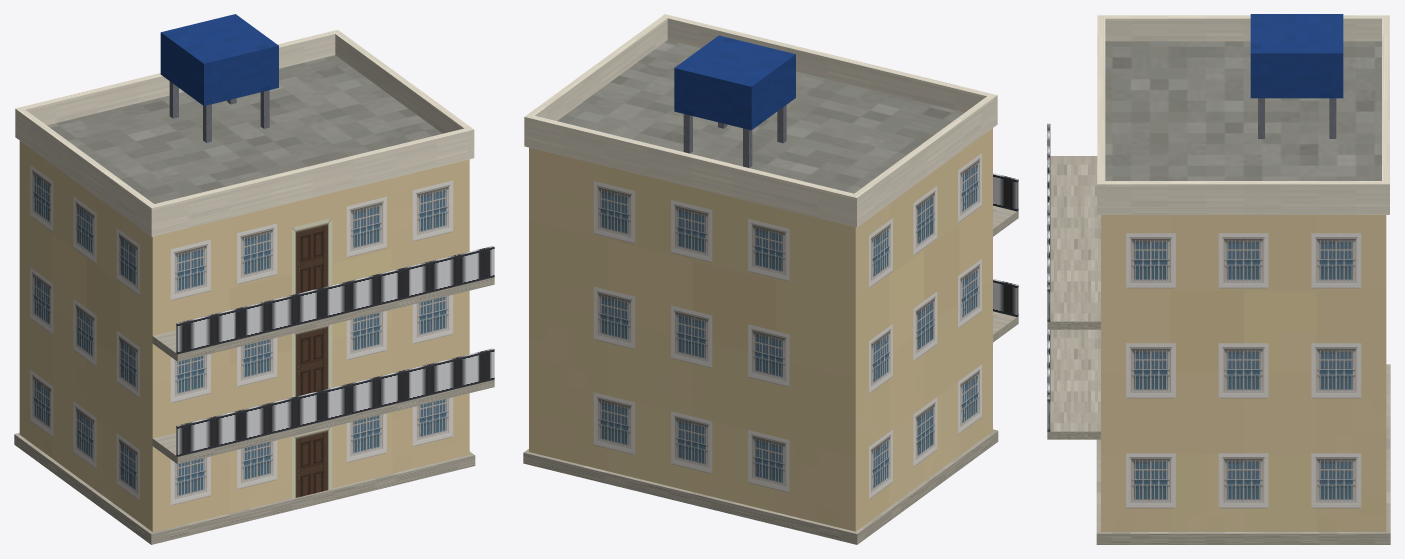
File: flats-cream-far.glb
3 views of the same model, side by side, from view 1: azimuth 30°, elevation 25°; view 2: azimuth 150°, elevation 25°; view 3: azimuth 270°, elevation 25° (orthographic). The views are drawn at different scales.
Parts seen in each view (by area): view 1: flats-cream; view 2: flats-cream; view 3: flats-cream.
Boxes of the visible parts, x1,y1,x2,y2 form: flats-cream: [14, 14, 494, 544]; flats-cream: [523, 14, 1018, 544]; flats-cream: [1047, 14, 1390, 544].
Bounding box in the file's own units: 11.24 × 13.2 × 9.62.
Materials: 1 (1 with a texture image).
